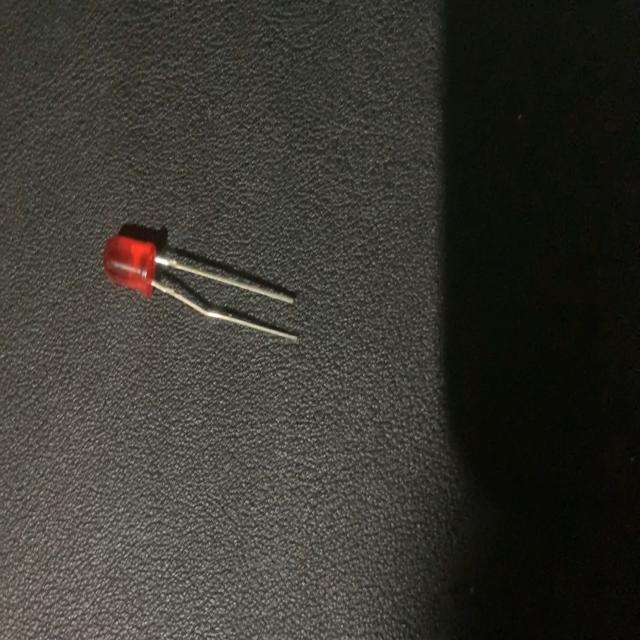LED: (102, 230, 299, 349)
